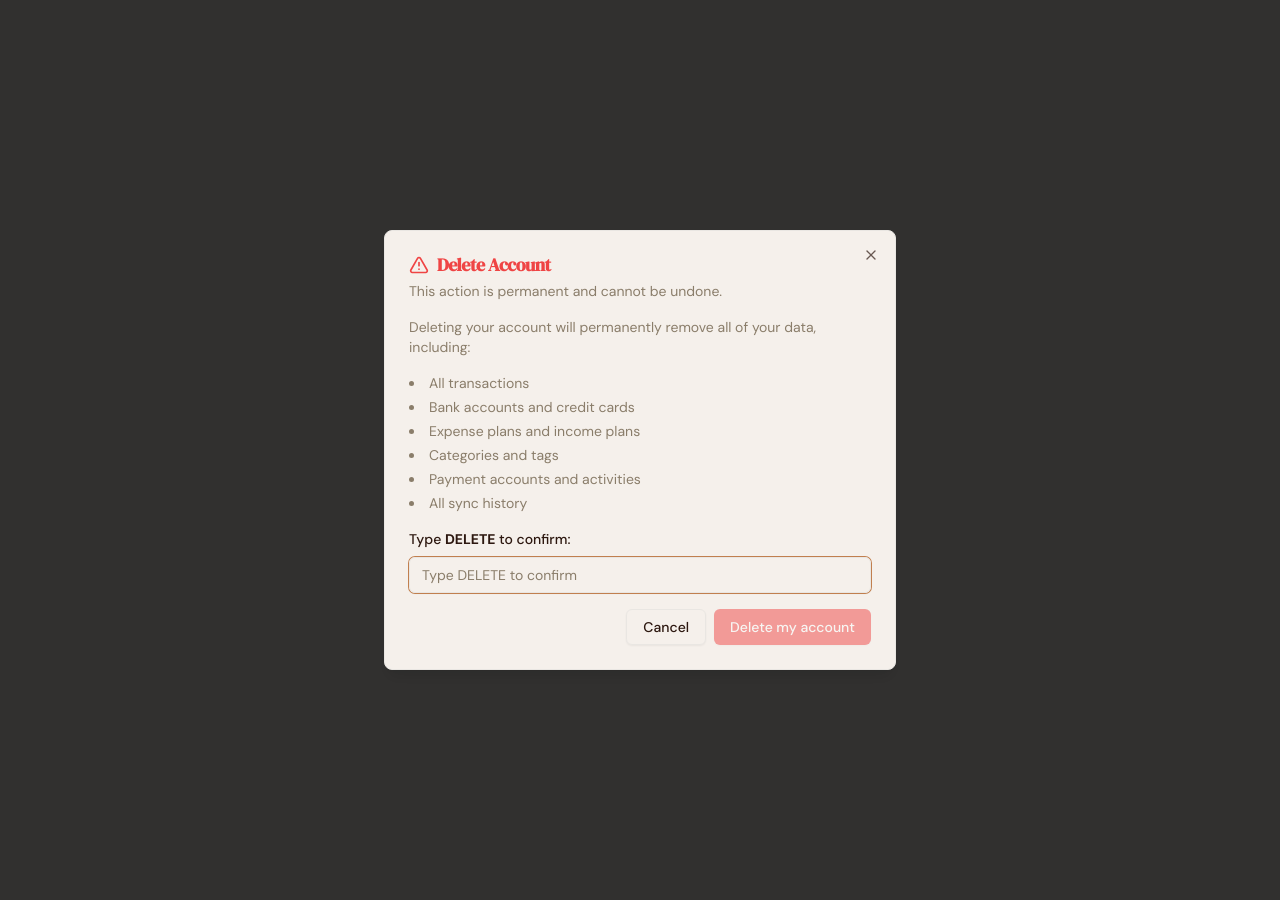
Test: DeleteAccountDialog › should enable delete button only when DELETE is typed
In the field with placeholder "Type DELETE to confirm": (640, 575) [409,557,871,593], type "DELET"
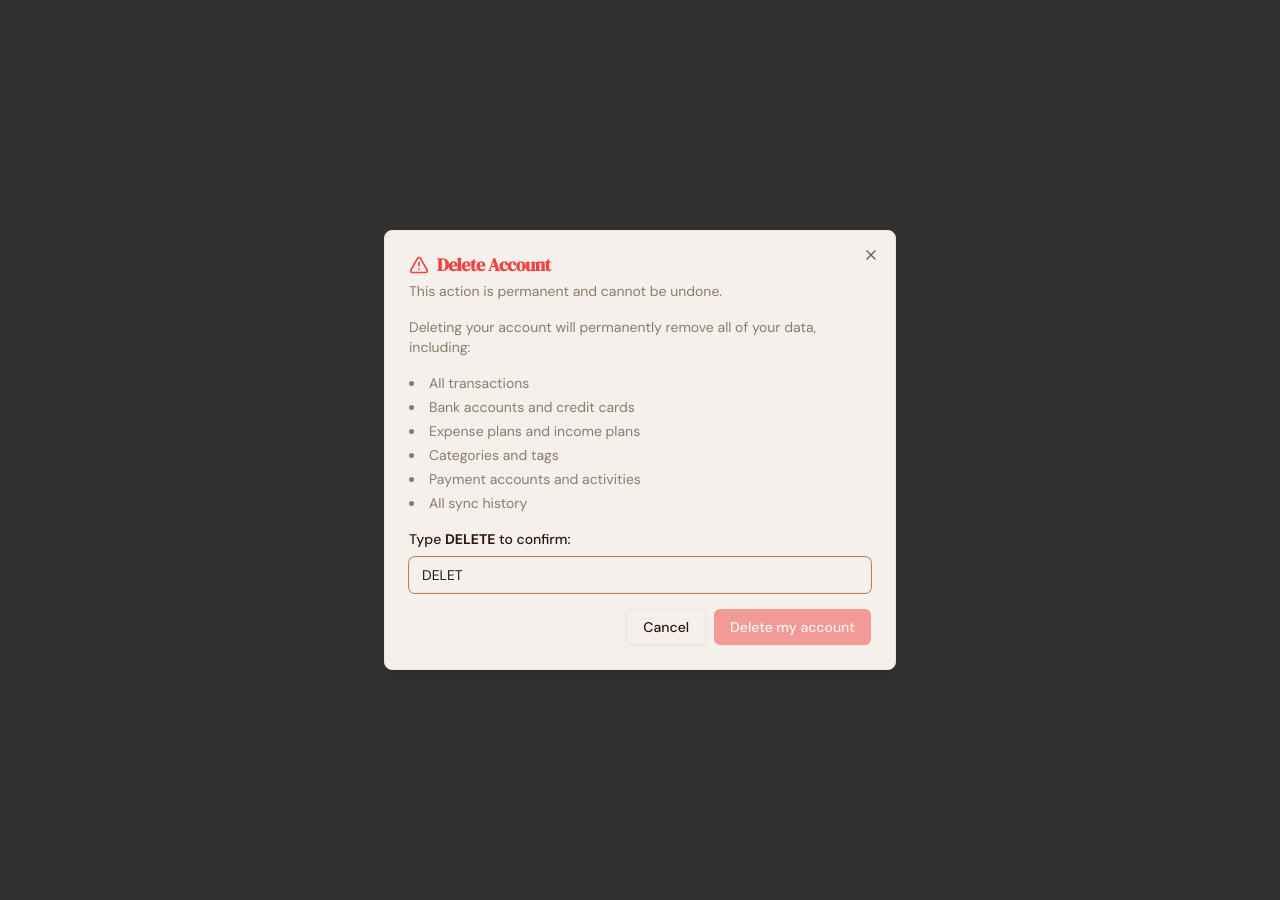
Expected: the button "Delete my account" is disabled, [714,609,871,645]
Replace the text in the field with placeholder "Type DELETE to confirm" with "DELETE": (640, 575) [409,557,871,593]
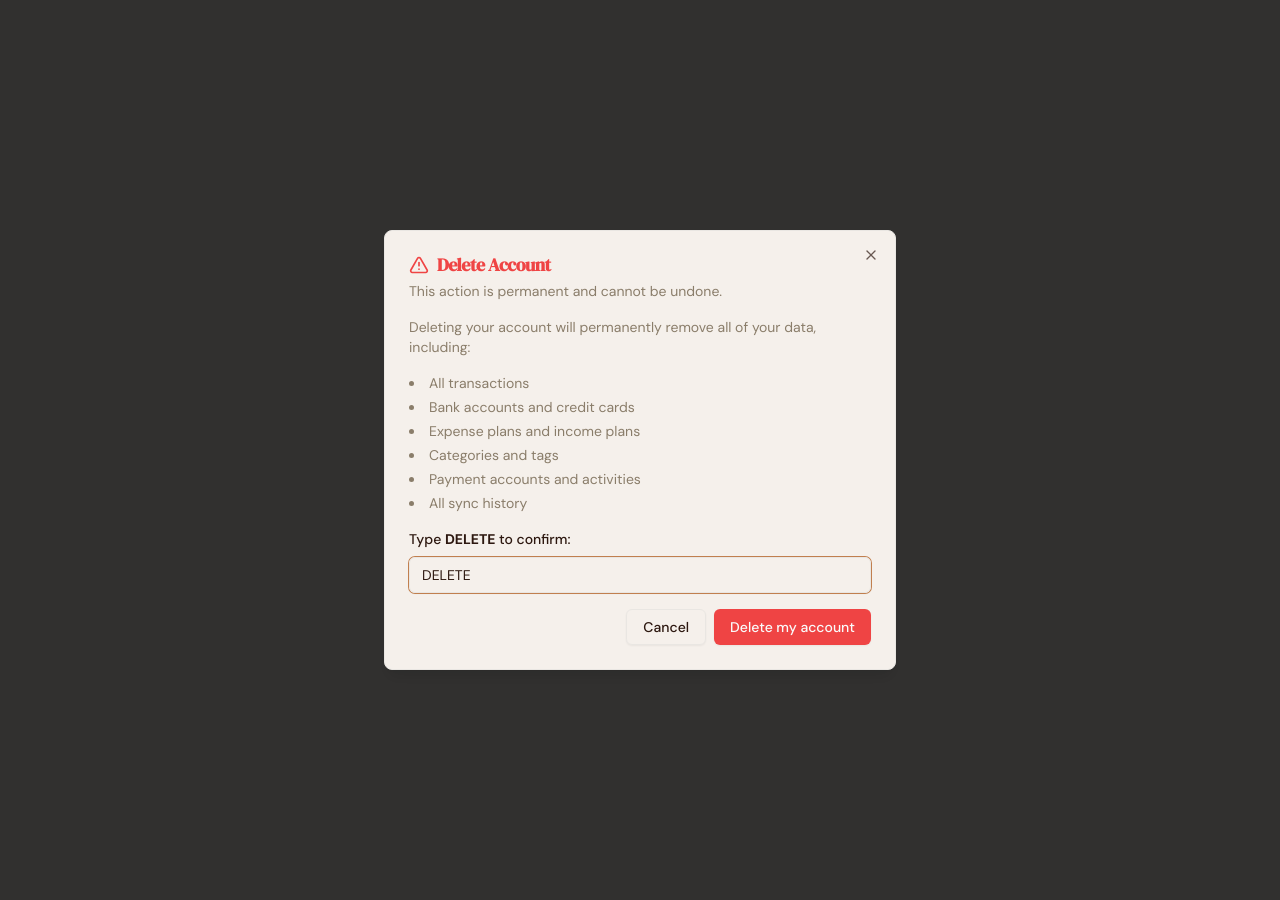
Expected: the button "Delete my account" is enabled, [714,609,871,645]
